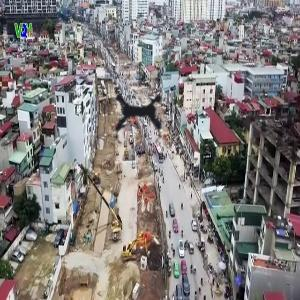drone: (83, 55, 203, 175)
